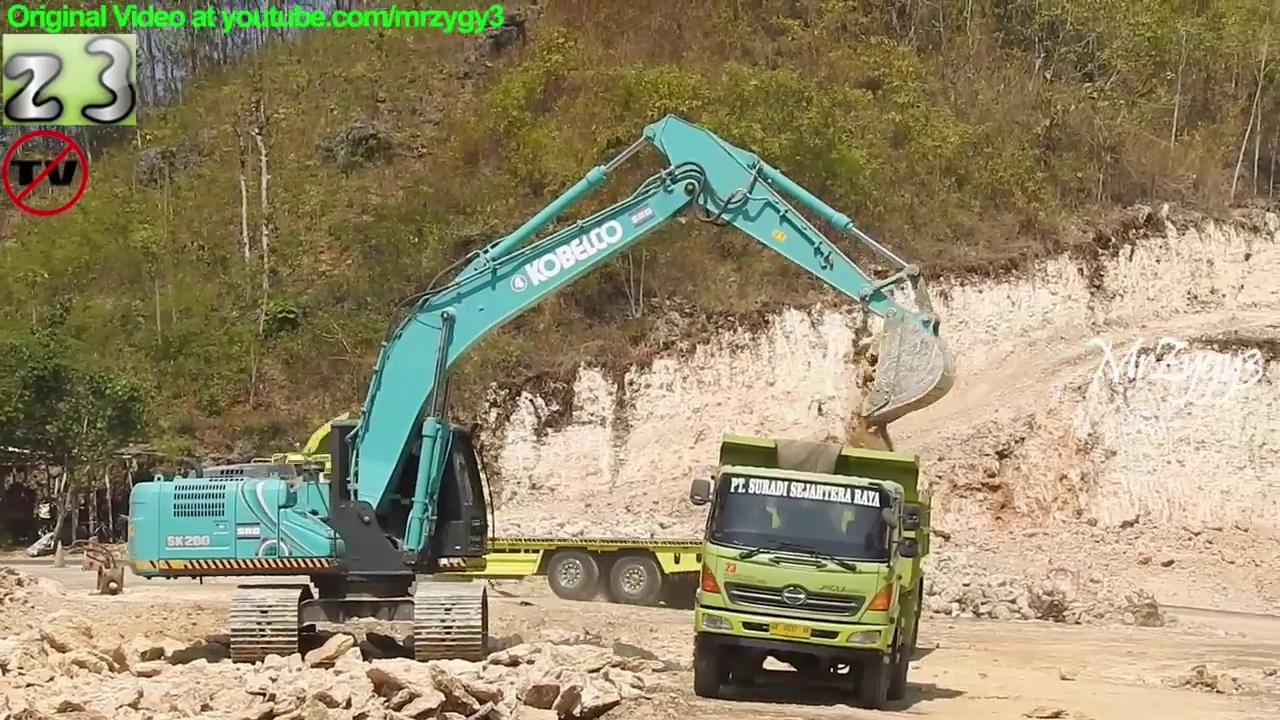excavator: (124, 109, 962, 664)
truck: (253, 405, 896, 609), (688, 424, 934, 710)
